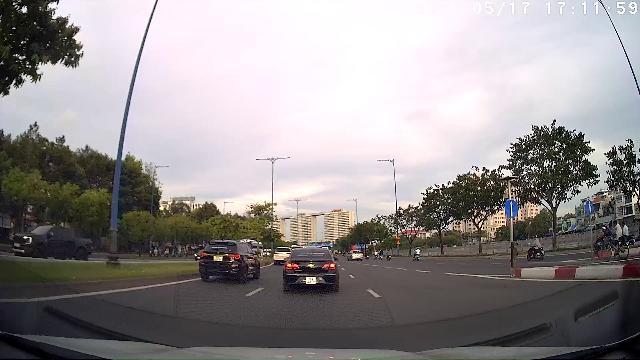301a-cac-xe-chi-duoc-di-thang: (503, 200, 519, 218), (585, 199, 595, 214)
